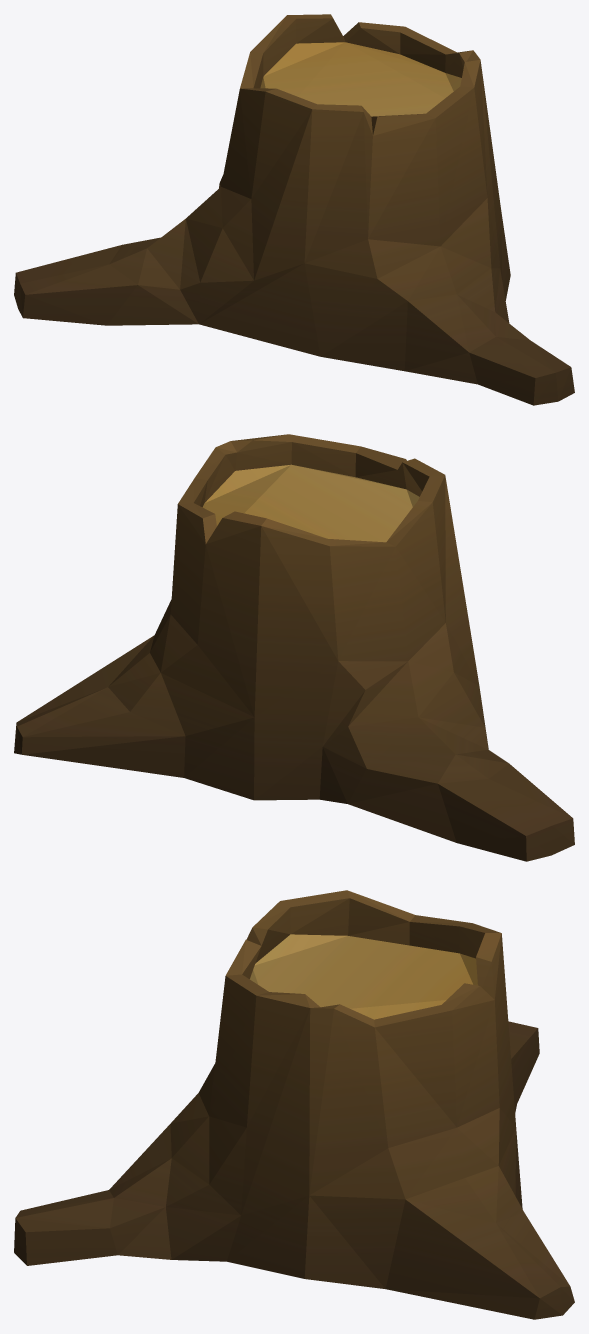
Rendered from Stump.obj.
3 views of the same model, one above another, from view 1: azimuth 30°, elevation 25°; view 2: azimuth 150°, elevation 25°; view 3: azimuth 270°, elevation 25° (orthographic). The views are drawn at different scales.
Visible parts, largest first — view 1: Stump_01.004_Cylinder.092; view 2: Stump_01.004_Cylinder.092; view 3: Stump_01.004_Cylinder.092.
Boxes of the visible parts, x1,y1,x2,y2 form: Stump_01.004_Cylinder.092: (14,14,574,405); Stump_01.004_Cylinder.092: (14,434,574,861); Stump_01.004_Cylinder.092: (14,890,574,1319).
Bounding box in the file's own units: 2.2 × 1.09 × 1.93.
1 material, 1 textured.
